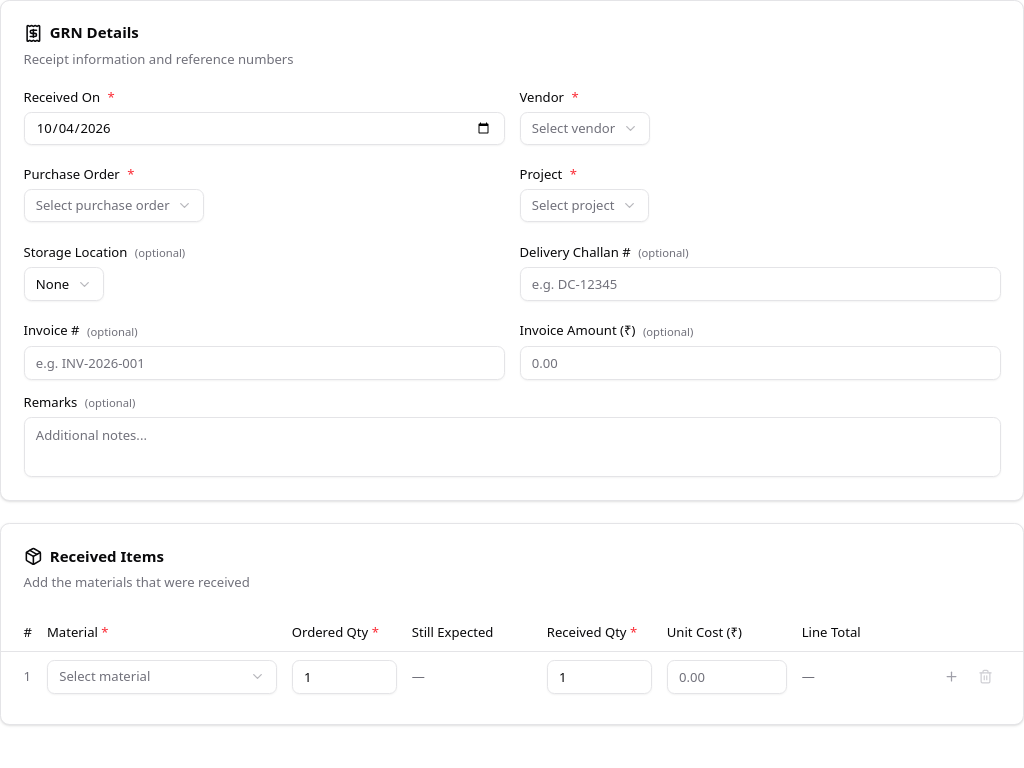
Test: GoodsReceiptForm required fields › submitting without them is blocked here, not at the server
Press ArrowDown in the dropdown labelled "Select vendor", box [520, 112, 650, 145]
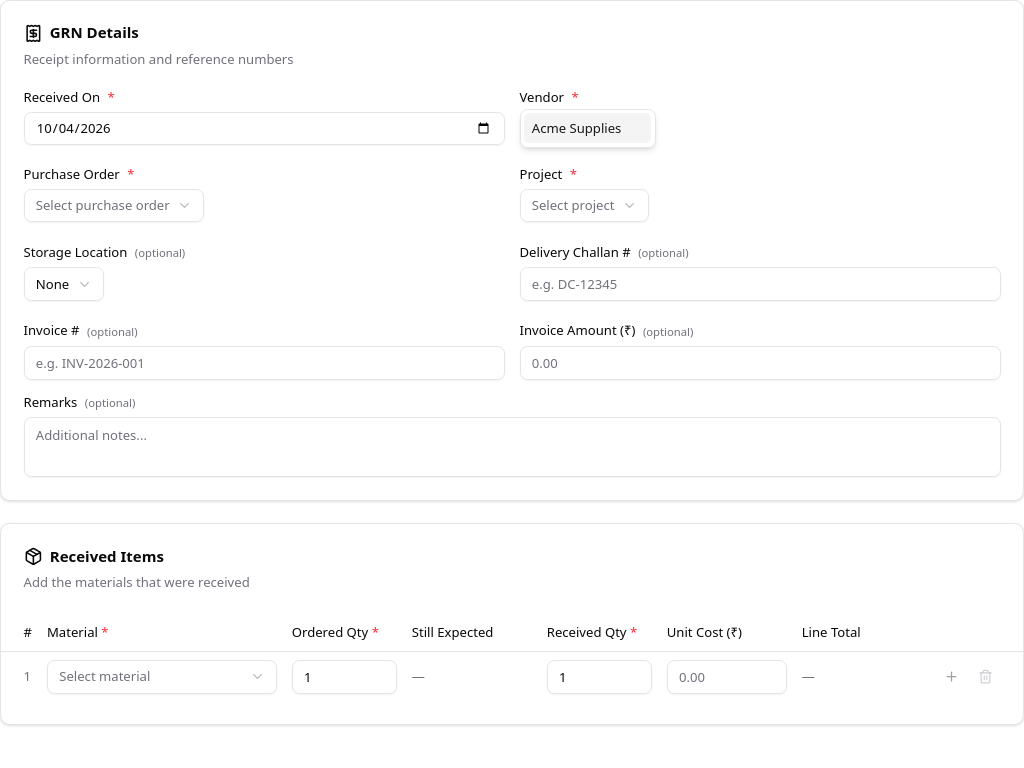
Click the option "Acme Supplies": (588, 128) [524, 113, 651, 143]
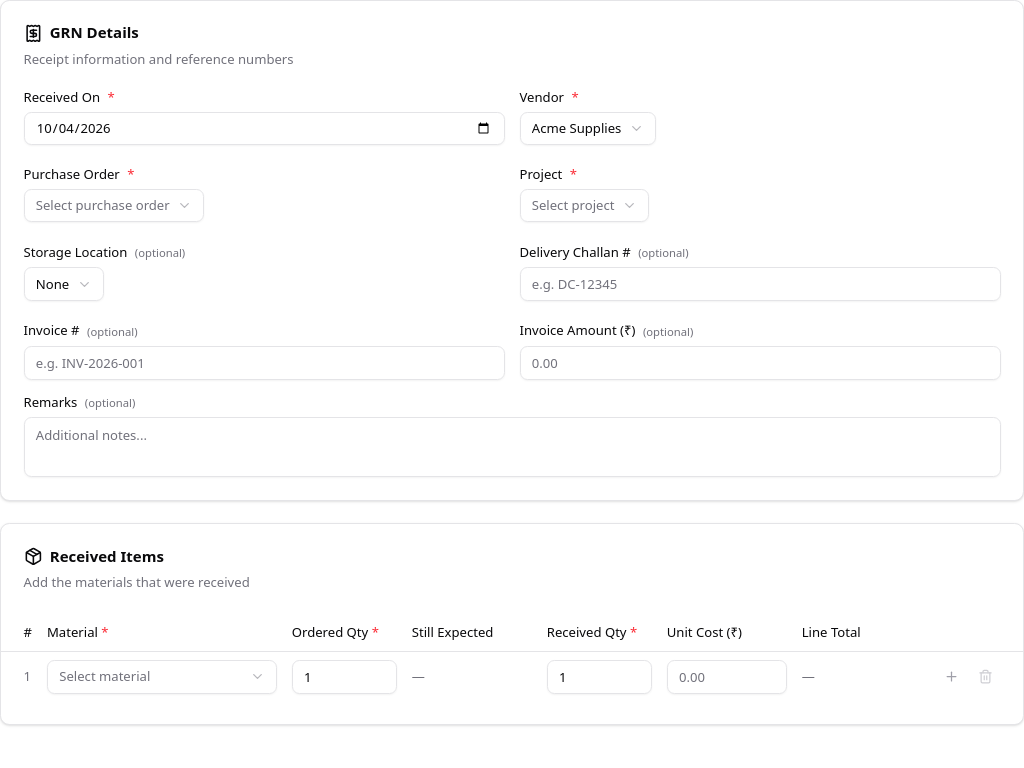
Press ArrowDown in the dropdown labelled "Select material", box [47, 660, 277, 694]
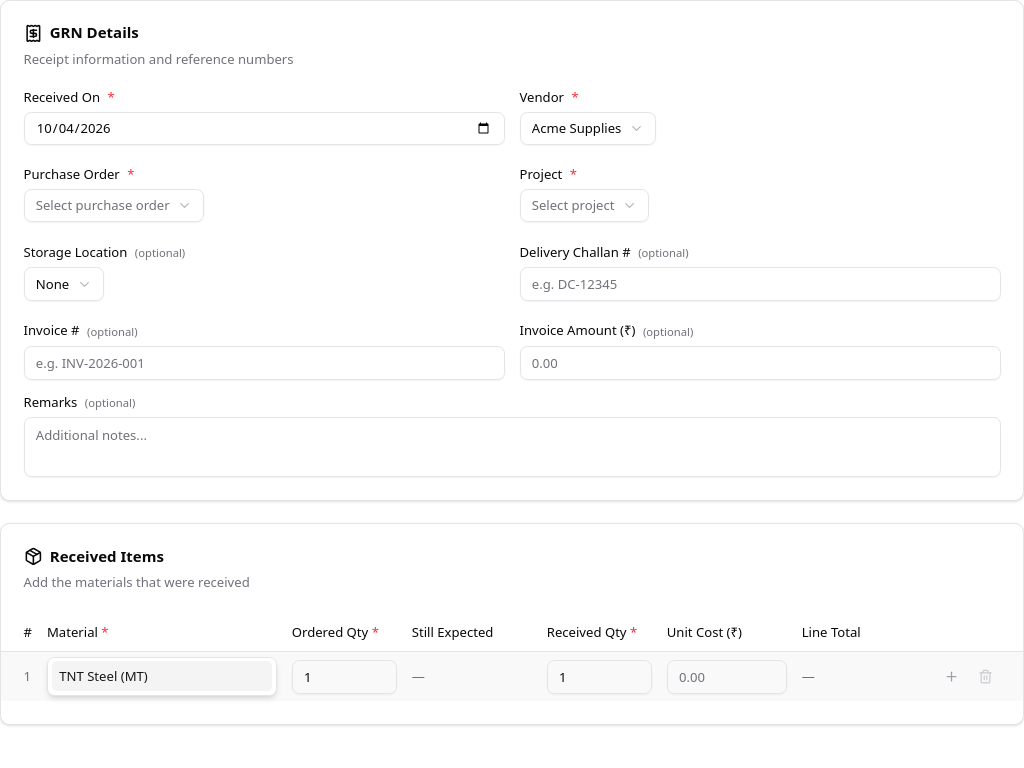
Click the option "TNT Steel (MT)": (162, 676) [52, 661, 272, 691]
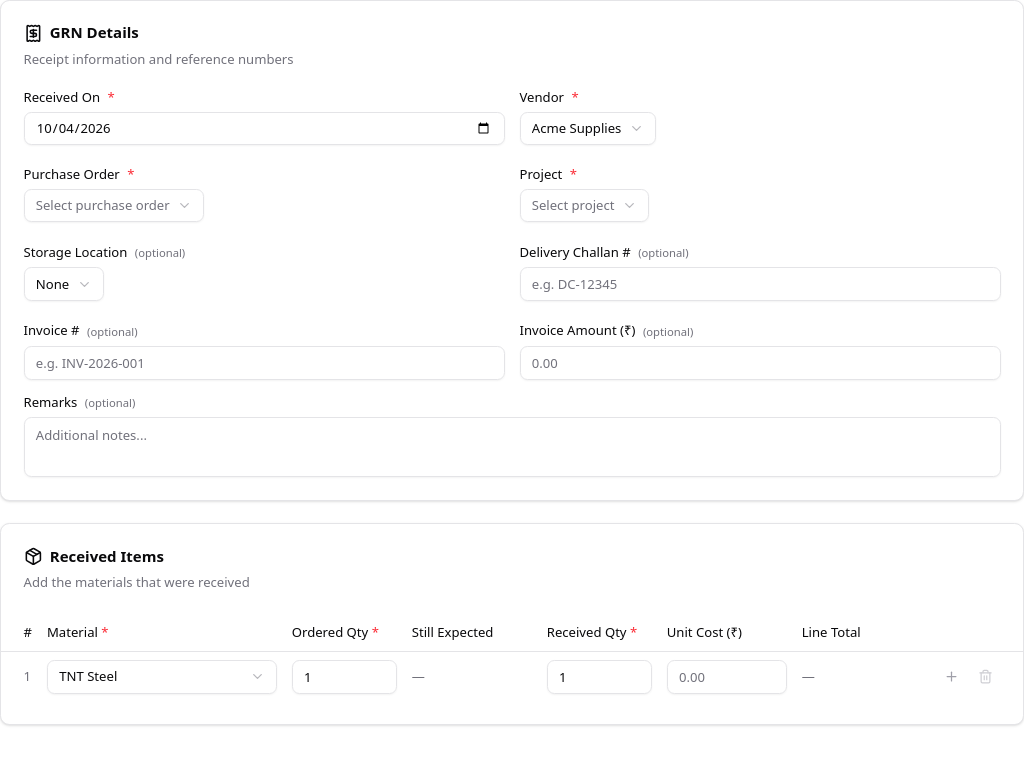
Submit the form
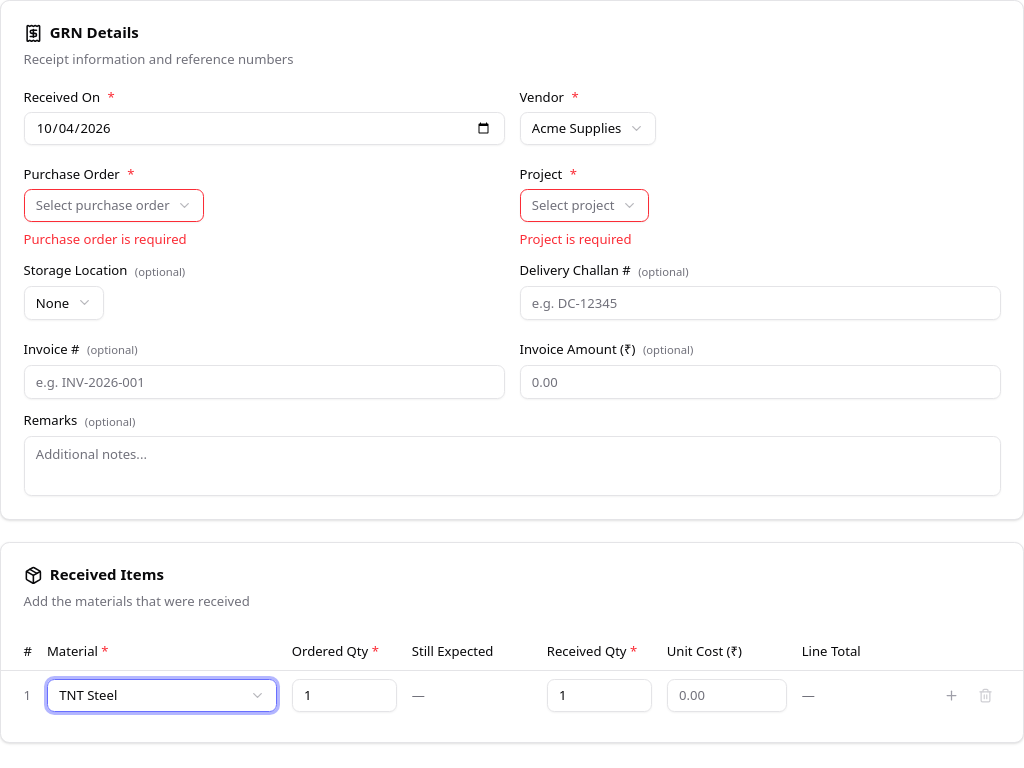
Now the text "Purchase order is required" is shown, box [24, 230, 187, 248]
Now the text "Project is required" is shown, box [520, 230, 632, 248]
